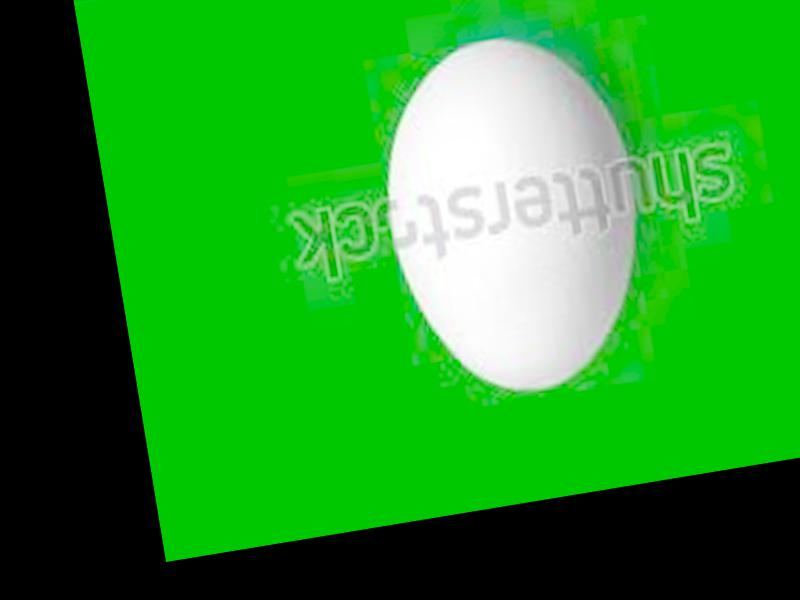Eggs: (366, 23, 664, 408)
